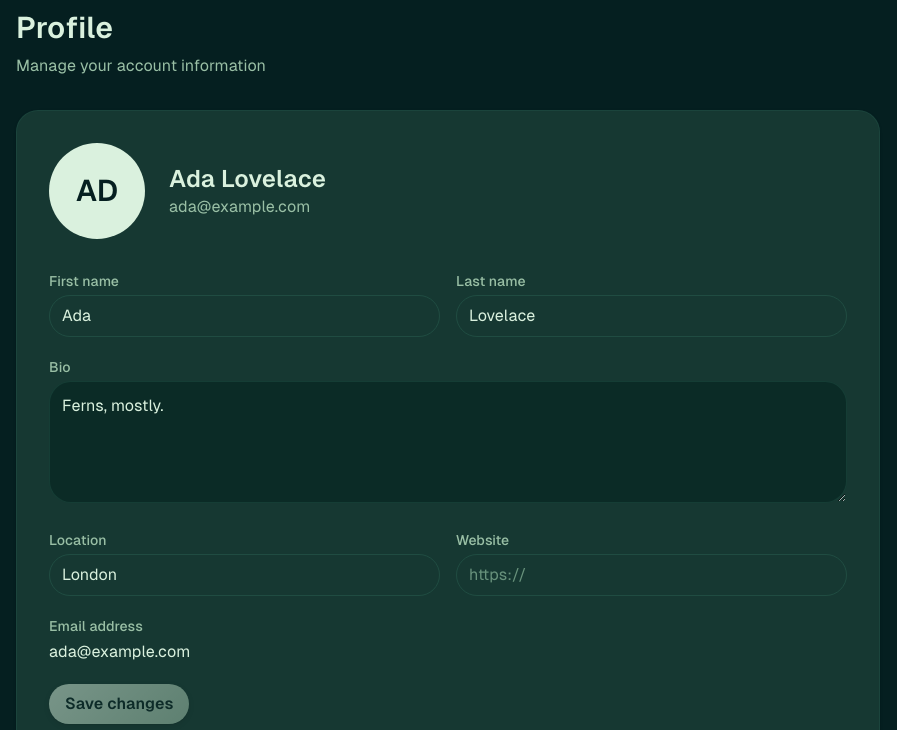
it: ProfilePage (web dead-code audit M3) › sends only the changed fields and confirms the save
Replace the text in the text box labelled "Bio" with "Ferns and mosses." at coordinates (448, 442), box [49,381,847,503]
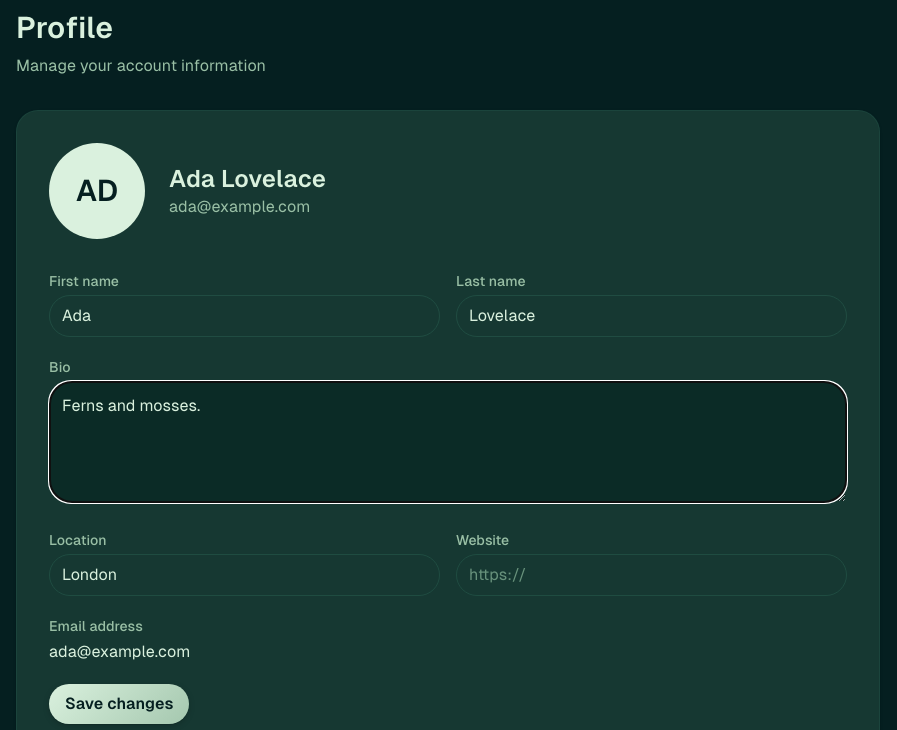
Click the button "Save changes".
click(119, 704)  # box [49,684,190,724]
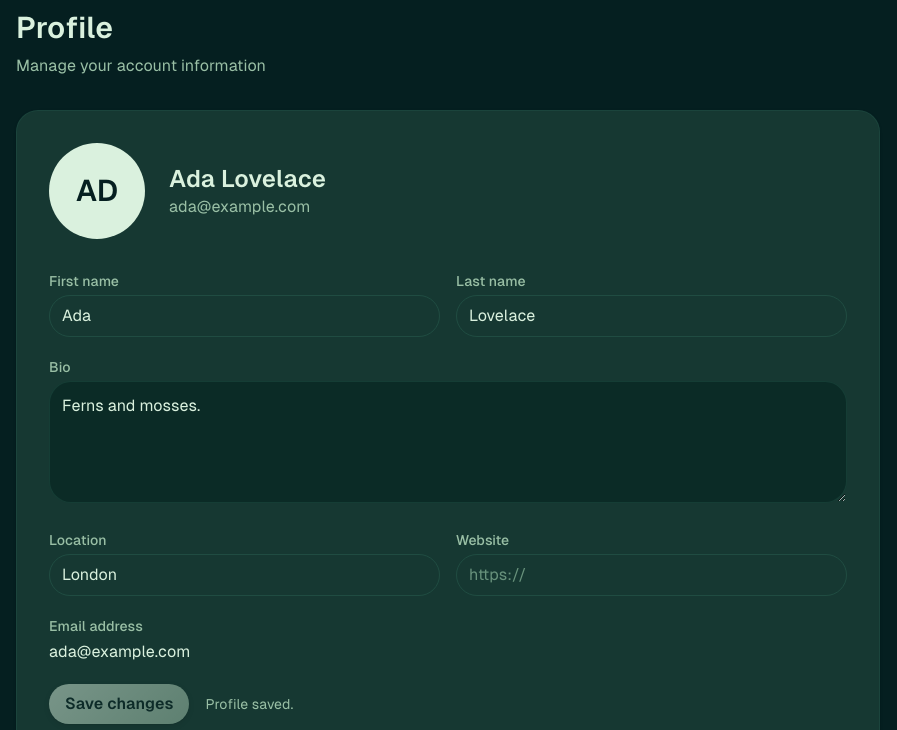
Expected: the text "Profile saved." is shown, [206,694,293,714]
Expected: the button "Save changes" is disabled, [49,684,190,724]
